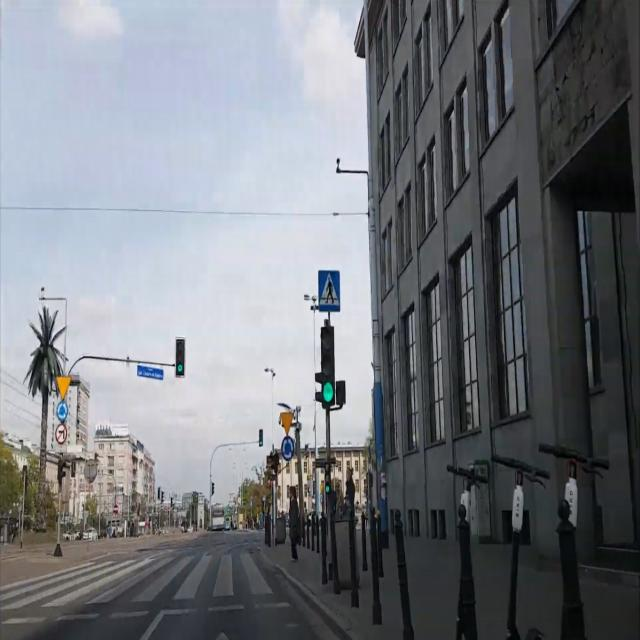Przejscie dla pieszych: (317, 270, 341, 314)
Ustap pierwszenstwa: (55, 375, 70, 399), (278, 414, 294, 435)
Zakaz wjazdu: (112, 504, 119, 515)
